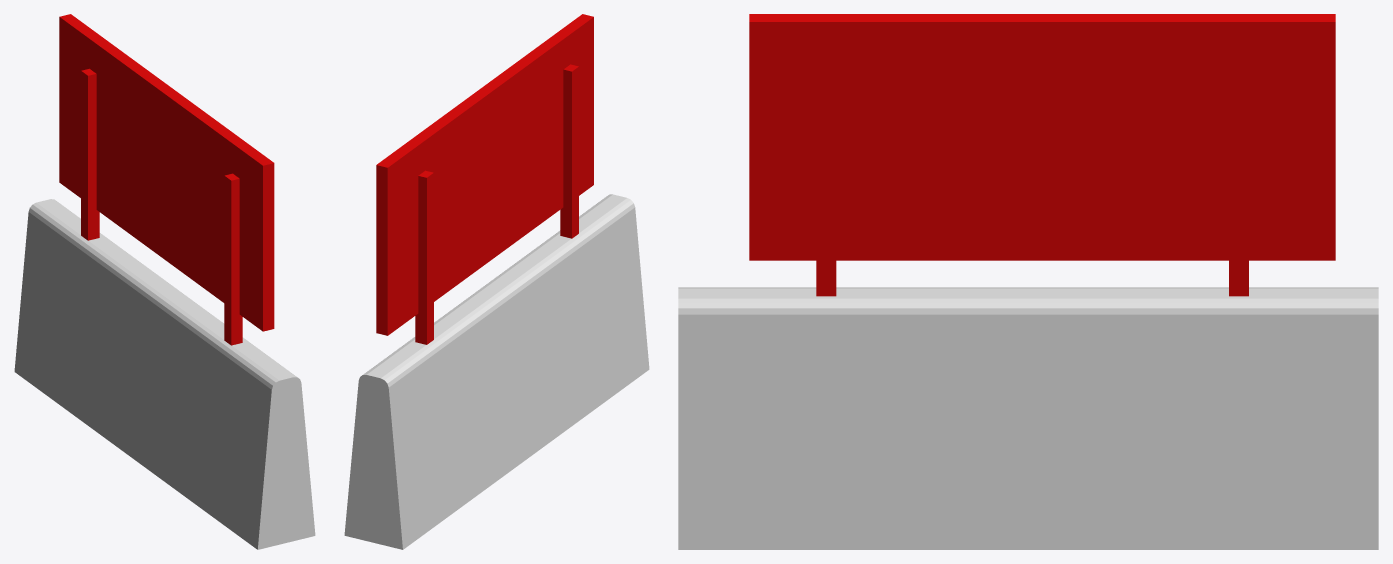
Rendered from Arrow_Block_Combined.fbx.
3 views of the same model, side by side, from view 1: azimuth 30°, elevation 25°; view 2: azimuth 150°, elevation 25°; view 3: azimuth 270°, elevation 25° (orthographic). The views are drawn at different scales.
Visible parts, largest first — view 1: Arrow_Block; view 2: Arrow_Block; view 3: Arrow_Block.
Boxes of the visible parts, x1,y1,x2,y2 form: Arrow_Block: (14,14,315,549); Arrow_Block: (344,14,649,549); Arrow_Block: (678,14,1378,549).
Bounding box in the file's own units: 2.04 × 12.1 × 14.87.
